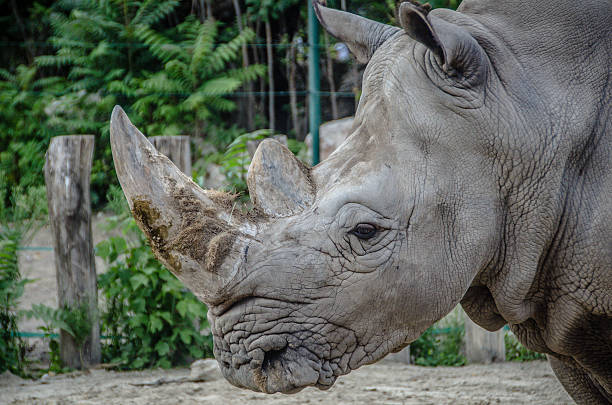rhino: (52, 7, 548, 397)
